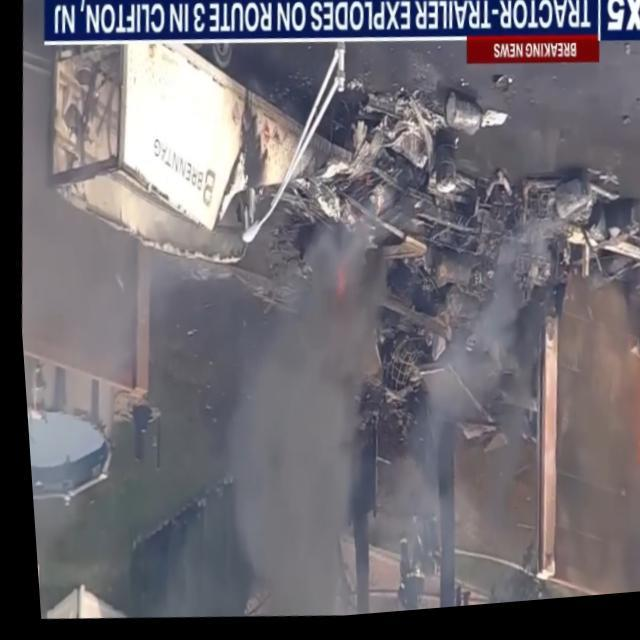fire: (611, 296, 640, 504)
